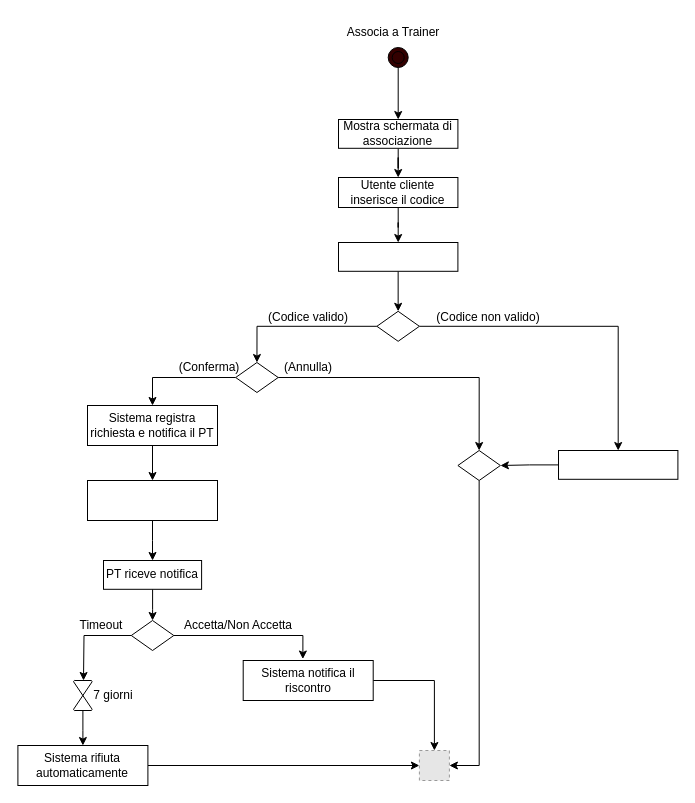
The diagram is 695 pixels wide and 803 high, and some of its shapes have lost their labels. Grey dashed boxes stand in for pictures. The shapes that lost their labels are listed below. From the top down, each one's centre as x and y in pixels, then its label:
[398,256]: Il sistema verifica il codice
[618,464]: Mostra messaggio d'errore
[152,500]: Mostra messaggio di avvenuta richiesta di associazione
